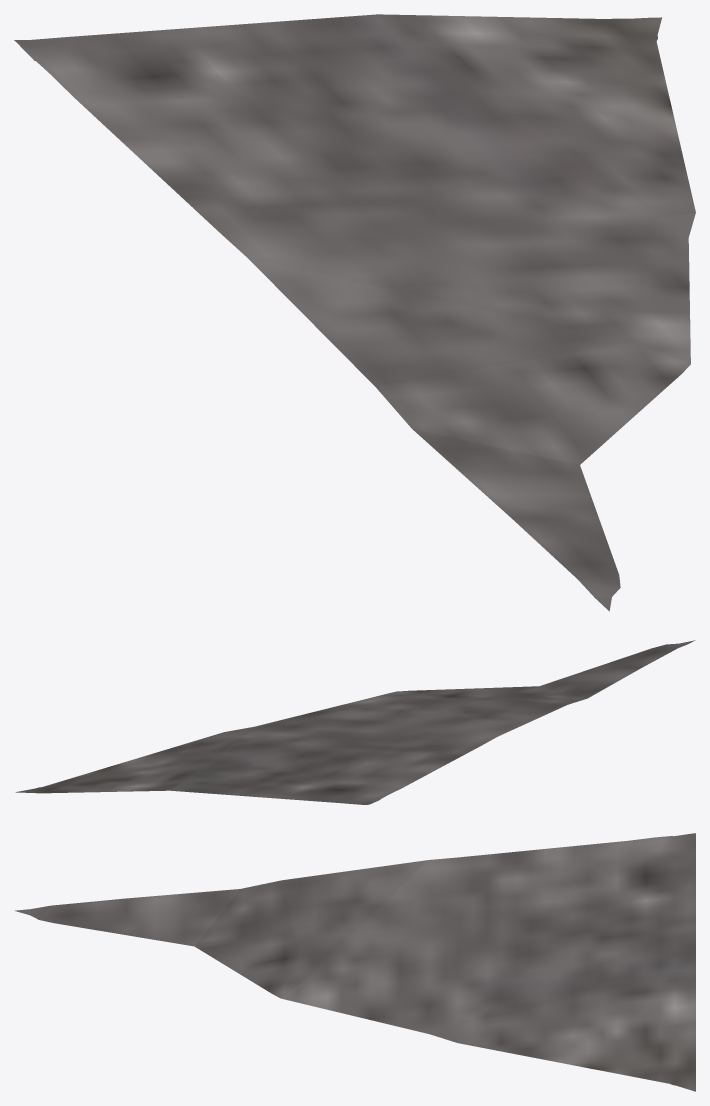
3 views of the same model, one above another, from view 1: azimuth 30°, elevation 25°; view 2: azimuth 150°, elevation 25°; view 3: azimuth 270°, elevation 25° (orthographic). The views are drawn at different scales.
Size of the model in its own units: 0.1891 by 0.0378 by 0.301.
1 material, 1 textured.
